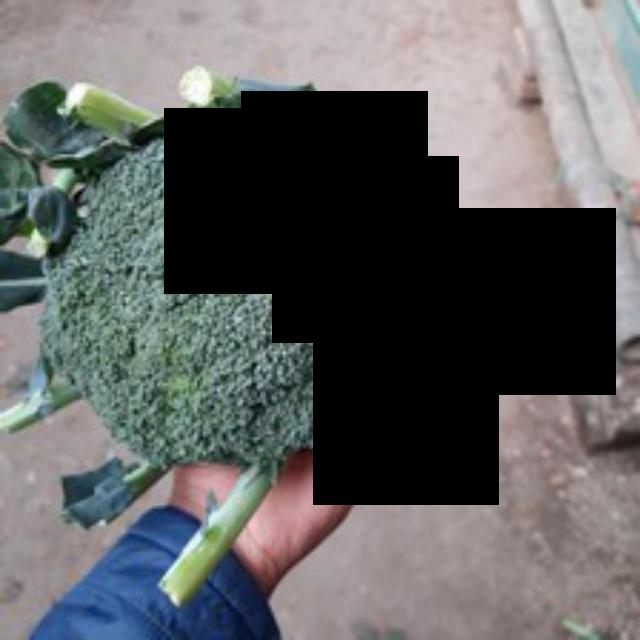broccoli: (37, 118, 397, 499)
